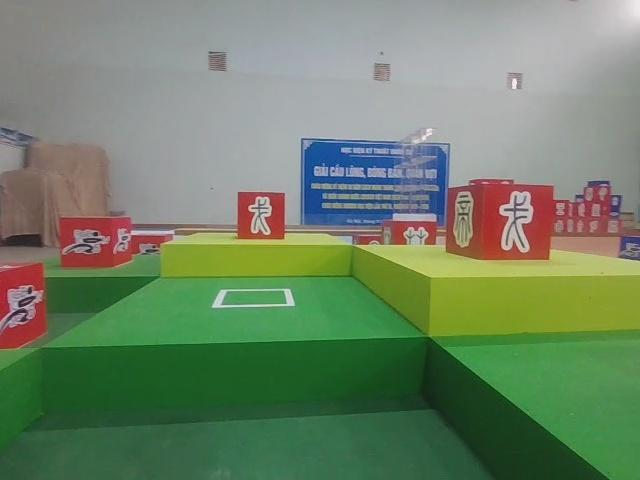R1: (58, 211, 133, 275), (0, 257, 50, 352)
R2 Fake: (443, 184, 557, 267), (234, 190, 286, 240)
